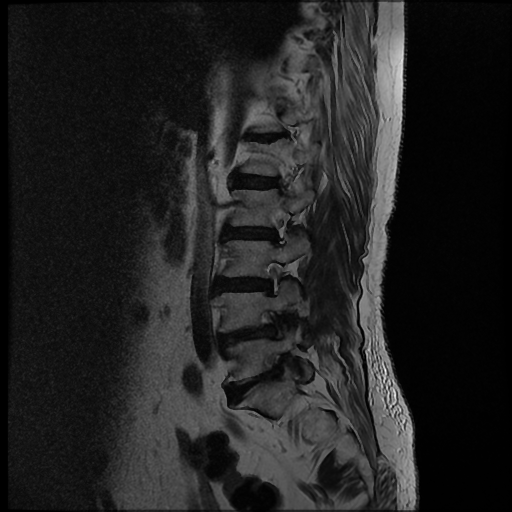RFS0: (254, 250, 303, 302)
RFS3: (250, 305, 291, 349)
